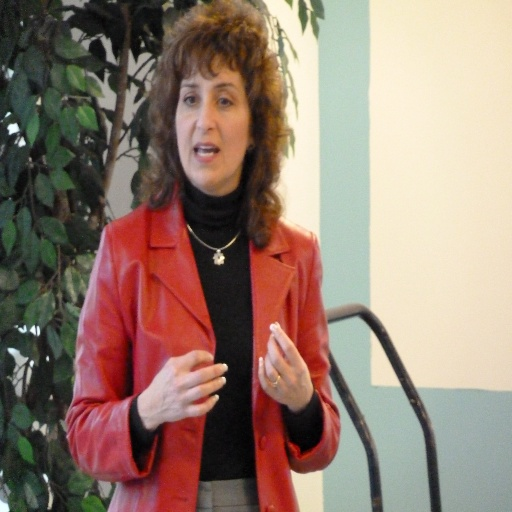hand: (145, 351, 235, 426), (256, 320, 313, 410)
